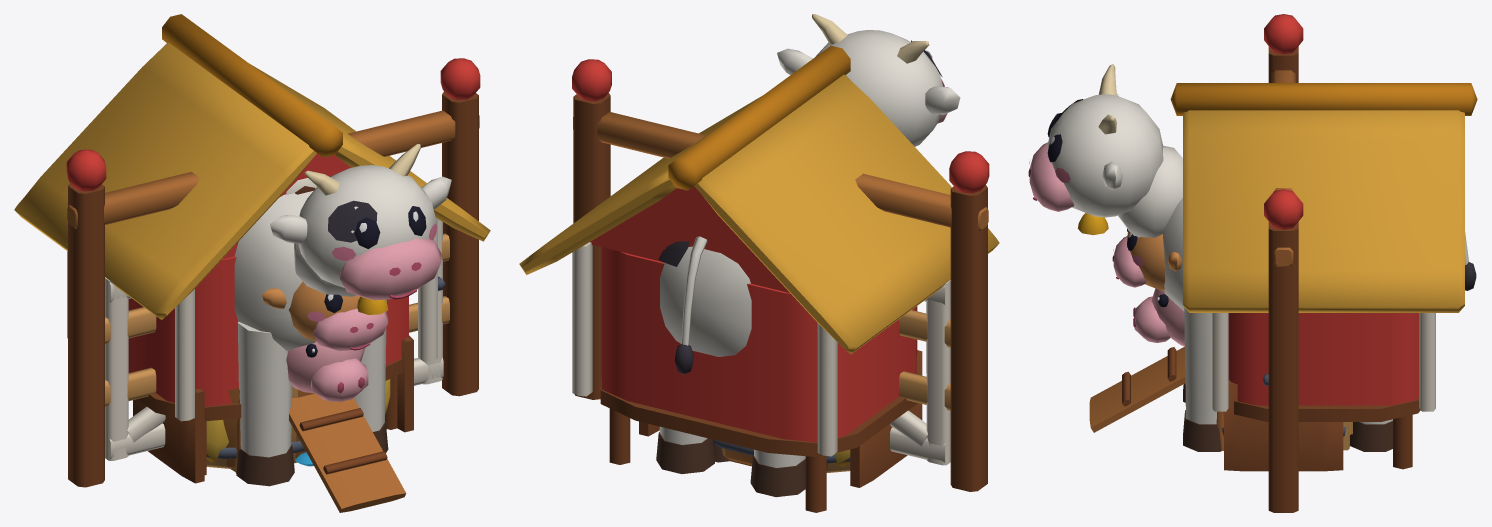
Rendered from farm.glb.
3 renders of one model, left to right at view 1: azimuth 30°, elevation 25°; view 2: azimuth 150°, elevation 25°; view 3: azimuth 270°, elevation 25°, orthographic. The views are drawn at different scales.
Parts seen in each view (by area): view 1: coop, cow, pen_gate, calf, feed_trough, pig, pen_fence, water_trough, hay_bale; view 2: coop, pen_gate, cow, feed_trough, pen_fence, water_trough; view 3: coop, cow, pen_gate, feed_trough, calf, pig.
Part boxes in pixels (x1,y1,x2,y2): coop: (14,14,490,512); cow: (234,144,451,486); pen_gate: (66,58,480,487); calf: (262,281,388,350); feed_trough: (133,335,413,483); pig: (286,341,368,401); pen_fence: (105,233,449,406); water_trough: (206,386,314,468); hay_bale: (206,379,390,462); coop: (519,45,999,512); pen_gate: (572,59,989,491); cow: (656,14,960,497); feed_trough: (639,350,922,487); pen_fence: (899,310,950,410); water_trough: (713,439,850,472); coop: (1089,83,1477,469); cow: (1028,64,1476,451); pen_gate: (1263,14,1303,512); feed_trough: (1224,379,1343,471); calf: (1112,228,1182,290); pig: (1133,288,1184,346).
Size of the model in its own units: 2.19 by 1.78 by 2.17.
